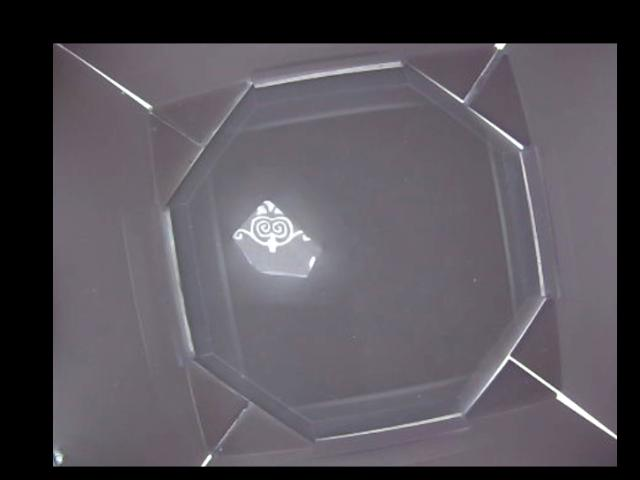China: (235, 201, 318, 283)
